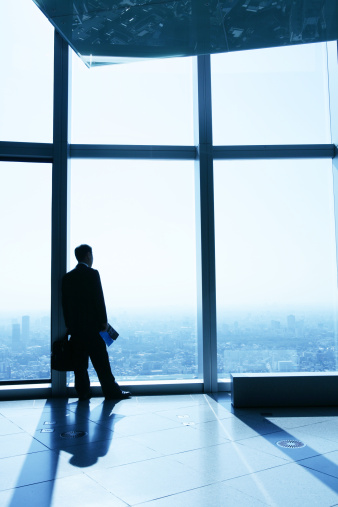em pe: (57, 228, 123, 417)
